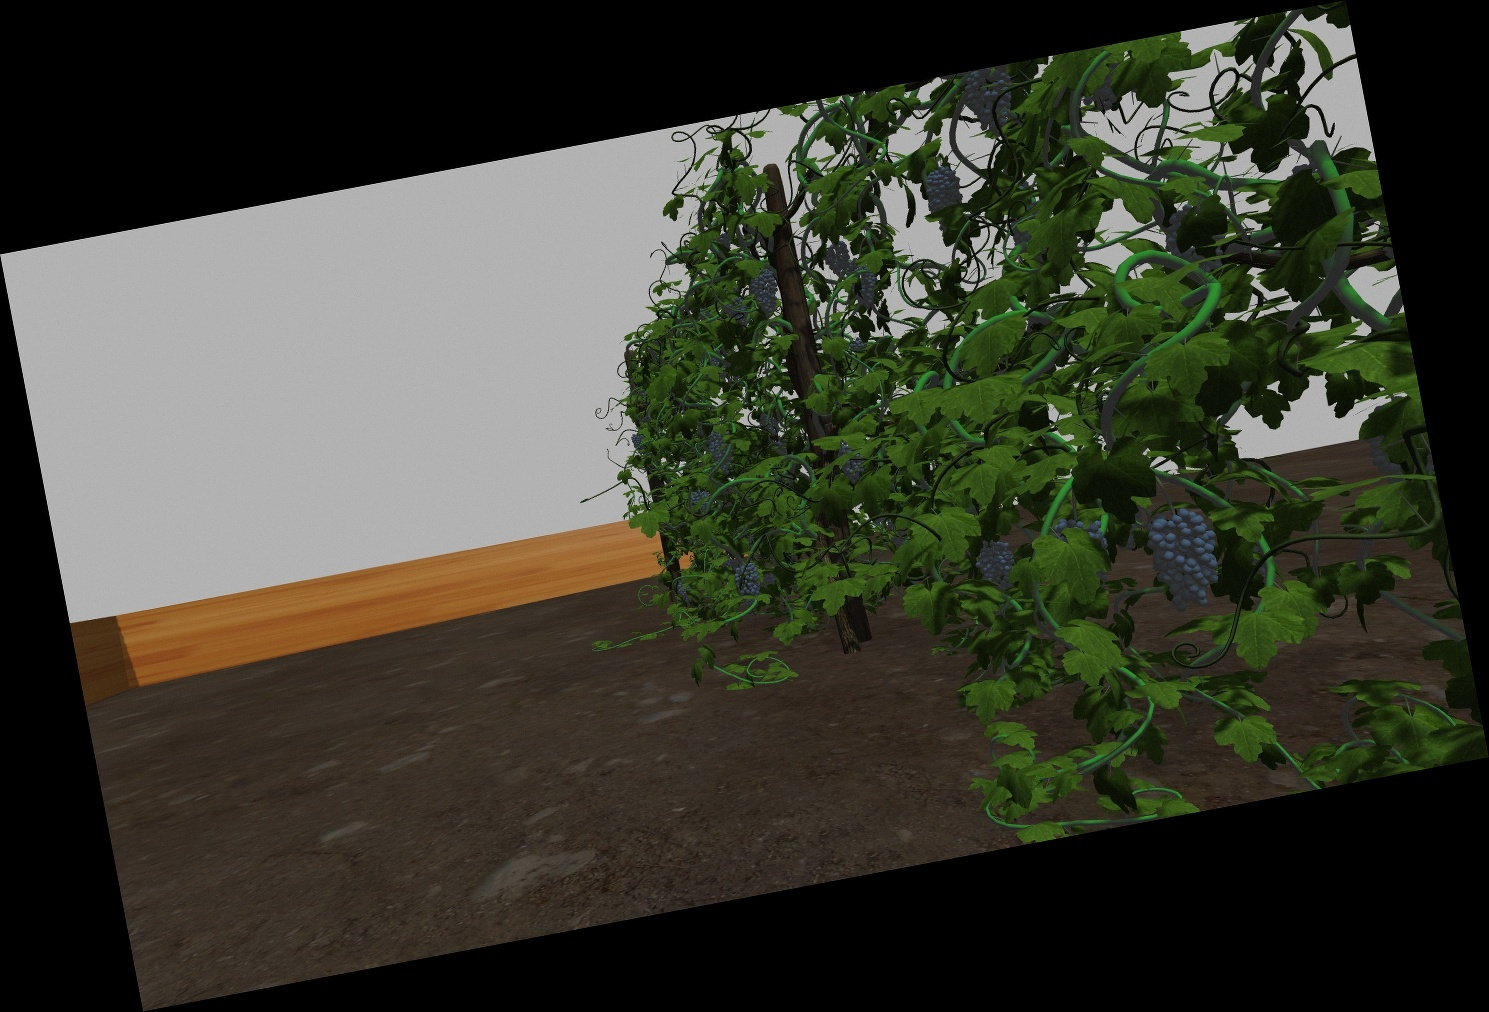grape: (1151, 508, 1220, 617), (963, 75, 1017, 136), (925, 162, 963, 219), (976, 541, 1016, 595), (752, 267, 778, 315), (852, 261, 877, 309), (734, 561, 763, 599), (709, 429, 733, 473), (840, 445, 864, 485), (825, 239, 851, 274), (726, 298, 748, 323), (631, 431, 645, 450)
